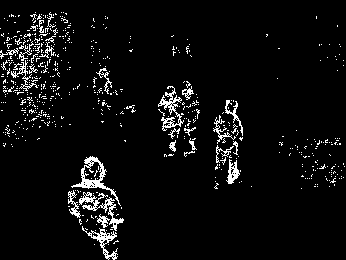person: (72, 156, 125, 259), (217, 99, 246, 198), (159, 85, 184, 160), (184, 80, 207, 160), (91, 66, 112, 125)
